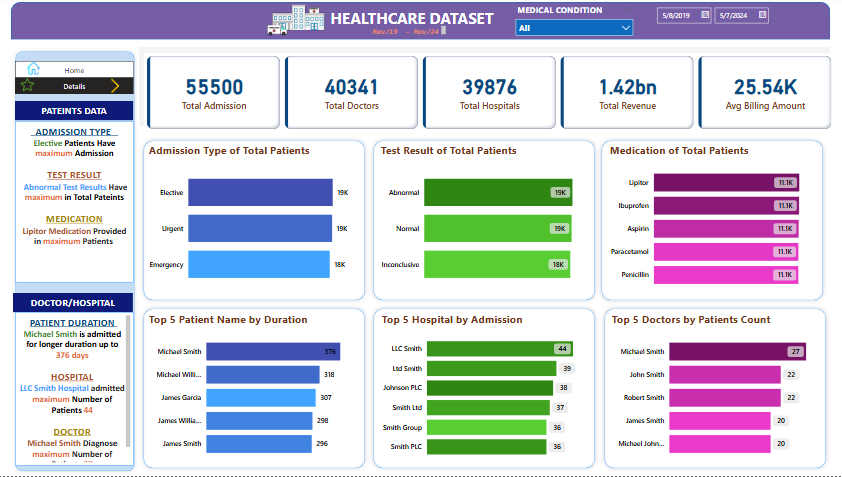

This screenshot's page, from the dashboard's own definition file:
{"tool":"powerbi","page":{"name":"Details","canvas":[1500,852],"ordinal":1},"visuals":[{"type":"shape","box":[22.4,89.7,227.6,762.1],"z":0},{"type":"cardVisual","fields":{"Data":["cleaned_pizza_sales.Total Revenue","cleaned_pizza_sales.Avg Order Value","cleaned_pizza_sales.Total Pizzas Sold","cleaned_pizza_sales.Total Orders","cleaned_pizza_sales.Avg Pizzas Per Order"]},"box":[250,88.9,1227.8,140.7],"z":1000},{"type":"shape","box":[22.2,9.3,1455.6,66.7],"z":2000},{"type":"textbox","box":[561.6,14.2,348.3,55.1],"z":3000},{"type":"textbox","box":[655,46.7,145,25],"z":4000},{"type":"shape","box":[250,246.2,409.6,300],"z":5000},{"type":"textbox","box":[30,185.7,210,34.3],"z":6000},{"type":"textbox","box":[30,220,211.1,286.7],"z":7000},{"type":"textbox","box":[27.1,525.7,212.9,34.3],"z":8000},{"type":"textbox","box":[30,560,211.4,272.9],"z":9000},{"type":"slicer","fields":{"Values":["healthcare_dataset1.Date of Admission"]},"box":[1159.3,9.3,227.8,66.7],"z":10000},{"type":"shape","box":[1065.4,246.2,409.6,300],"z":11000},{"type":"shape","box":[659.6,246.2,409.6,300],"z":12000},{"type":"shape","box":[659.6,546.2,409.6,300],"z":13000},{"type":"shape","box":[1069.2,546.2,409.6,300],"z":14000},{"type":"shape","box":[250,546.2,409.6,300],"z":15000},{"type":"barChart","title":"Admission Type of Total Patients","fields":{"Category":["healthcare_dataset1.Admission Type"],"Y":["healthcare_dataset1.Name"]},"box":[263.5,259.6,376.9,273.1],"z":16000},{"type":"barChart","title":"Top 5 Patient Name by Duration","fields":{"Category":["healthcare_dataset1.Name"],"Y":["healthcare_dataset1.Patient Duration"]},"box":[263.5,559.6,376.9,273.1],"z":17000},{"type":"barChart","title":"Test Result of Total Patients","fields":{"Category":["healthcare_dataset1.Test Results"],"Y":["healthcare_dataset1.Total Admission"]},"box":[675,259.6,376.9,273.1],"z":18000},{"type":"barChart","title":"Top 5 Hospital by Admission","fields":{"Category":["healthcare_dataset1.Hospital"],"Y":["healthcare_dataset1.Total Admission"]},"box":[676.9,559.6,376.9,273.1],"z":19000},{"type":"barChart","title":"Medication of Total Patients","fields":{"Category":["healthcare_dataset1.Medication"],"Y":["healthcare_dataset1.Total Admission"]},"box":[1082.7,259.6,376.9,273.1],"z":20000},{"type":"barChart","title":"Top 5 Doctors by Patients Count","fields":{"Category":["healthcare_dataset1.Doctor"],"Y":["healthcare_dataset1.Total Admission"]},"box":[1086.5,559.6,376.9,273.1],"z":21000},{"type":"pageNavigator","box":[30,142.9,211.4,30],"z":22000},{"type":"pageNavigator","box":[30,112.9,211.4,30],"z":23000},{"type":"image","box":[190,137.1,35.7,42.9],"z":24000},{"type":"image","box":[42.9,110,41.4,32.9],"z":25000},{"type":"image","box":[22.9,138.6,57.1,34.3],"z":26000},{"type":"cardVisual","fields":{"Data":["healthcare_dataset1.Total Admission","healthcare_dataset1.Total Doctors","healthcare_dataset1.Total Hospitals","healthcare_dataset1.Total Revenue","healthcare_dataset1.Avg Billing Amount"]},"box":[260,98.9,1227.8,140.7],"z":27000},{"type":"slicer","fields":{"Values":["healthcare_dataset1.Medical Condition"]},"box":[910,7.1,229.3,65.8],"z":28000},{"type":"image","box":[469.2,8.9,120.9,64],"z":29000}]}

Visuals, with their boxes in screenshot pixels (x1, y1, x2, y2), scaled from the page's 1500x852 canvas onto the 842x477 screenshot:
shape: [left=13, top=50, right=140, bottom=476]
cardVisual - cleaned_pizza_sales.Total Revenue x cleaned_pizza_sales.Avg Order Value: [left=140, top=50, right=830, bottom=129]
shape: [left=12, top=5, right=830, bottom=43]
textbox: [left=315, top=8, right=511, bottom=39]
textbox: [left=368, top=26, right=449, bottom=40]
shape: [left=140, top=138, right=370, bottom=306]
textbox: [left=17, top=104, right=135, bottom=123]
textbox: [left=17, top=123, right=135, bottom=284]
textbox: [left=15, top=294, right=135, bottom=314]
textbox: [left=17, top=314, right=136, bottom=466]
slicer - healthcare_dataset1.Date of Admission: [left=651, top=5, right=779, bottom=43]
shape: [left=598, top=138, right=828, bottom=306]
shape: [left=370, top=138, right=600, bottom=306]
shape: [left=370, top=306, right=600, bottom=474]
shape: [left=600, top=306, right=830, bottom=474]
shape: [left=140, top=306, right=370, bottom=474]
"Admission Type of Total Patients" barChart: [left=148, top=145, right=359, bottom=298]
"Top 5 Patient Name by Duration" barChart: [left=148, top=313, right=359, bottom=466]
"Test Result of Total Patients" barChart: [left=379, top=145, right=590, bottom=298]
"Top 5 Hospital by Admission" barChart: [left=380, top=313, right=592, bottom=466]
"Medication of Total Patients" barChart: [left=608, top=145, right=819, bottom=298]
"Top 5 Doctors by Patients Count" barChart: [left=610, top=313, right=821, bottom=466]
pageNavigator: [left=17, top=80, right=136, bottom=97]
pageNavigator: [left=17, top=63, right=136, bottom=80]
image: [left=107, top=77, right=127, bottom=101]
image: [left=24, top=62, right=47, bottom=80]
image: [left=13, top=78, right=45, bottom=97]
cardVisual - healthcare_dataset1.Total Admission x healthcare_dataset1.Total Doctors: [left=146, top=55, right=835, bottom=134]
slicer - healthcare_dataset1.Medical Condition: [left=511, top=4, right=640, bottom=41]
image: [left=263, top=5, right=331, bottom=41]
